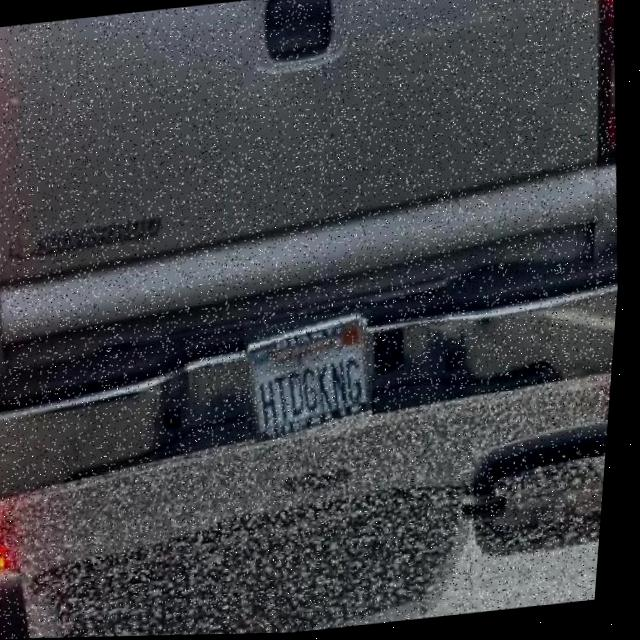LicensePlate: (249, 312, 379, 445)
